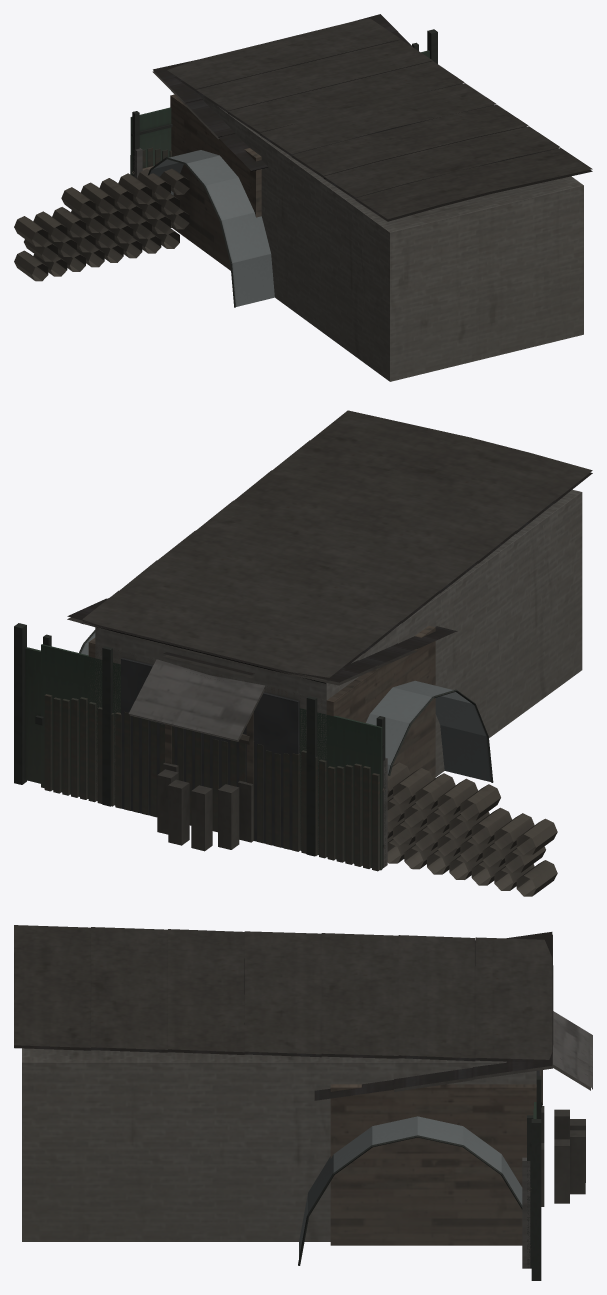
File: ph_yard.glb
The picture shows the model from 3 angles, top to bottom: view 1: azimuth 30°, elevation 25°; view 2: azimuth 150°, elevation 25°; view 3: azimuth 270°, elevation 25°; orthographic projection. The views are drawn at different scales.
Visible parts, largest first — view 1: y_garage, y_shed, y_greenhouse, y_fence_prof, y_fence_picket; view 2: y_garage, y_shed, y_fence_picket, y_well, y_fence_prof, y_gate, y_greenhouse; view 3: y_garage, y_shed, y_well, y_greenhouse, y_gate, y_fence_picket, y_fence_prof.
Part boxes in pixels (bbox=[...]): y_garage: bbox=[167, 18, 592, 381]; y_shed: bbox=[14, 14, 413, 281]; y_greenhouse: bbox=[148, 150, 274, 307]; y_fence_prof: bbox=[130, 42, 418, 176]; y_fence_picket: bbox=[130, 147, 171, 227]; y_garage: bbox=[81, 410, 592, 853]; y_shed: bbox=[67, 598, 557, 896]; y_fence_picket: bbox=[44, 694, 387, 871]; y_well: bbox=[128, 659, 265, 851]; y_fence_prof: bbox=[41, 634, 385, 870]; y_gate: bbox=[14, 623, 317, 856]; y_greenhouse: bbox=[79, 630, 493, 782]; y_garage: bbox=[14, 925, 552, 1241]; y_shed: bbox=[314, 932, 553, 1245]; y_well: bbox=[539, 1011, 592, 1206]; y_greenhouse: bbox=[298, 1116, 522, 1265]; y_gate: bbox=[531, 1075, 541, 1280]; y_fence_picket: bbox=[522, 1157, 531, 1268]; y_fence_prof: bbox=[527, 1102, 536, 1268].
Size of the model in its own units: 7.52 by 2.83 by 7.31.
1 material, 1 textured.
